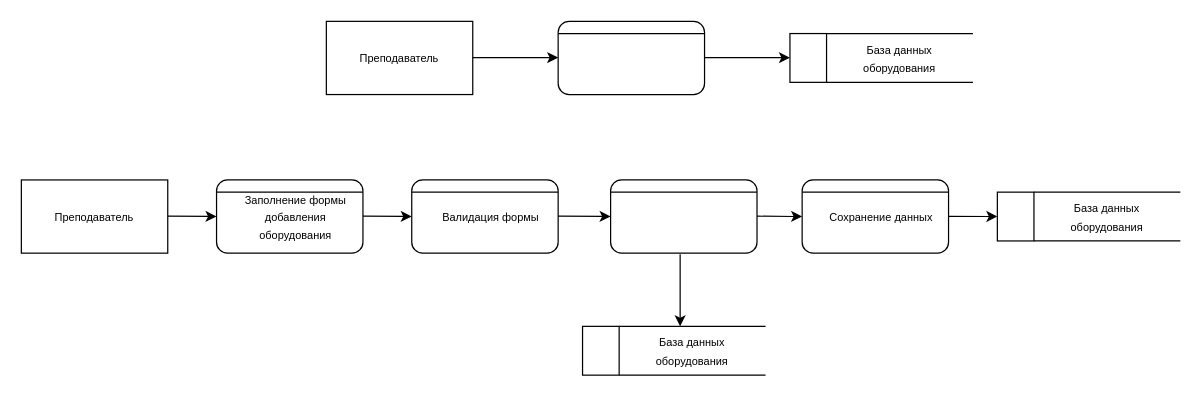
Image size: 1203x398. Some labels were removed from this diagram. The shapes that lost their labels are listed below. From the top down, each one's centre as x and y in pixels, then its label:
the point at 631,57: Добавление нового оборудования
the point at 683,216: Подготовка данных
